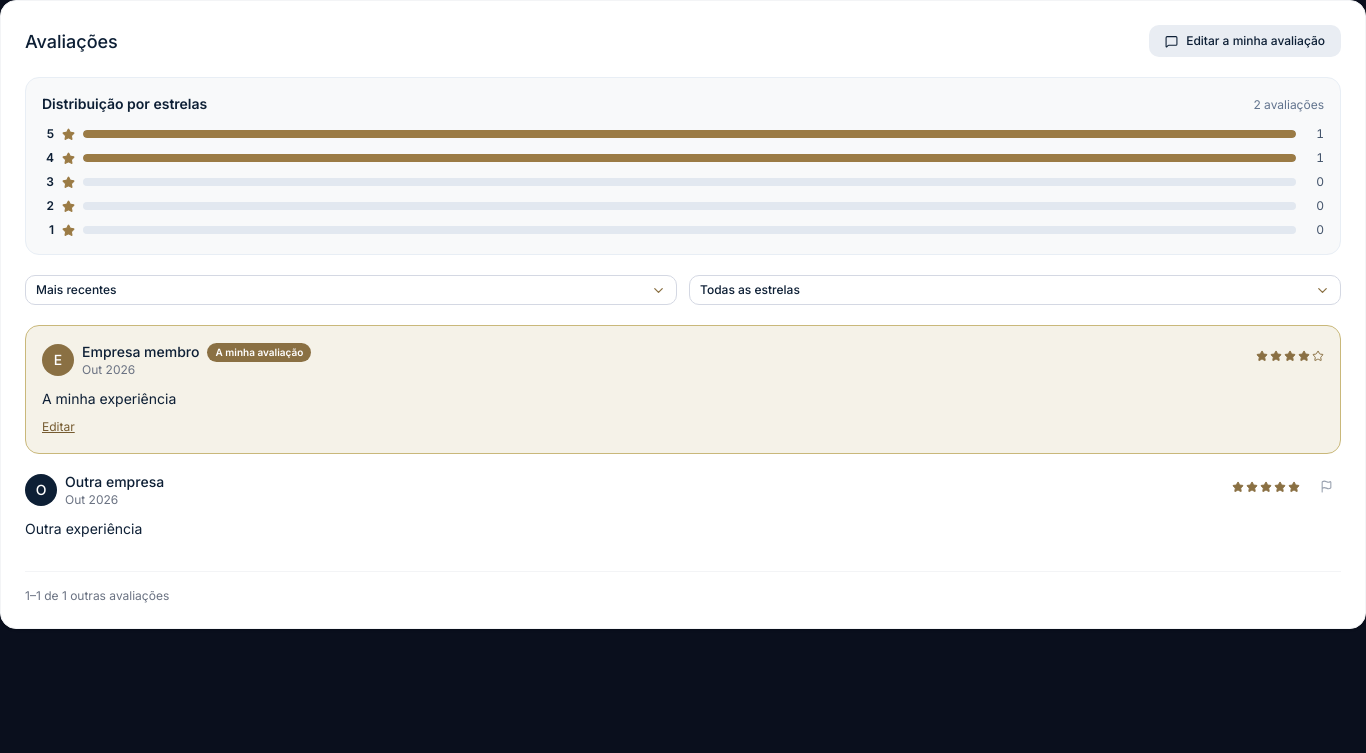
Formulário de avaliação do perfil público › edita com 200 e cancela sem alterar o conteúdo guardado
Click the button "Editar" at (58, 427), box [42,419,75,435]
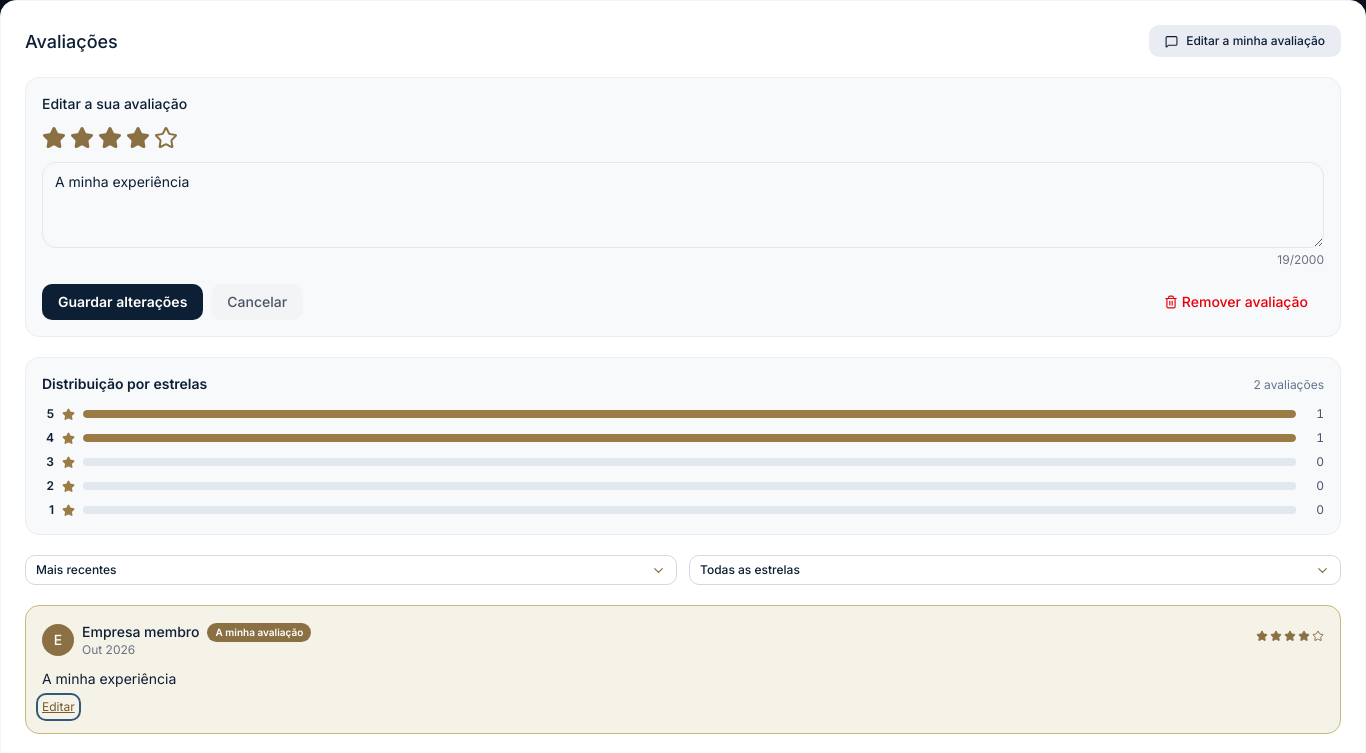
Now the text box holds "A minha experiência"
Replace the text in the text box with "Rascunho" at (683, 205), box [42,162,1324,248]
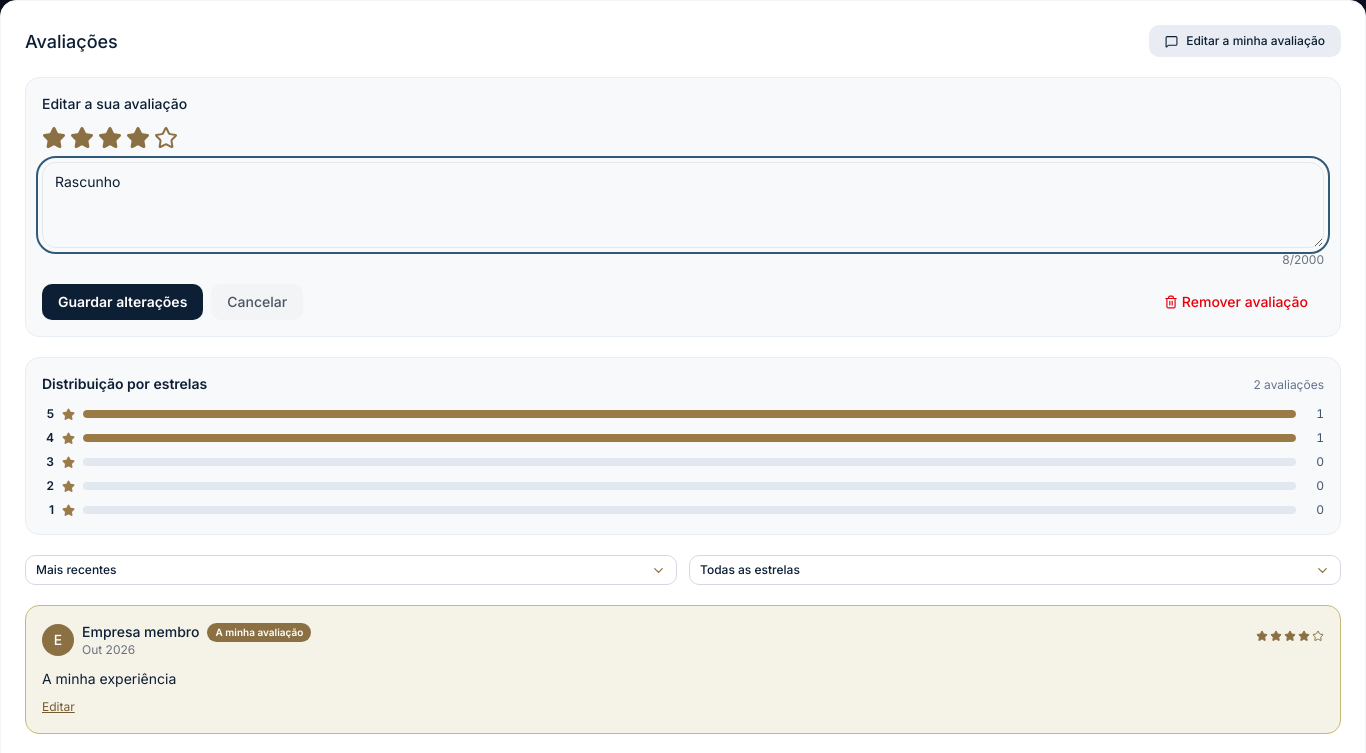
Click the button "Cancelar" at (257, 302), box [211,284,303,320]
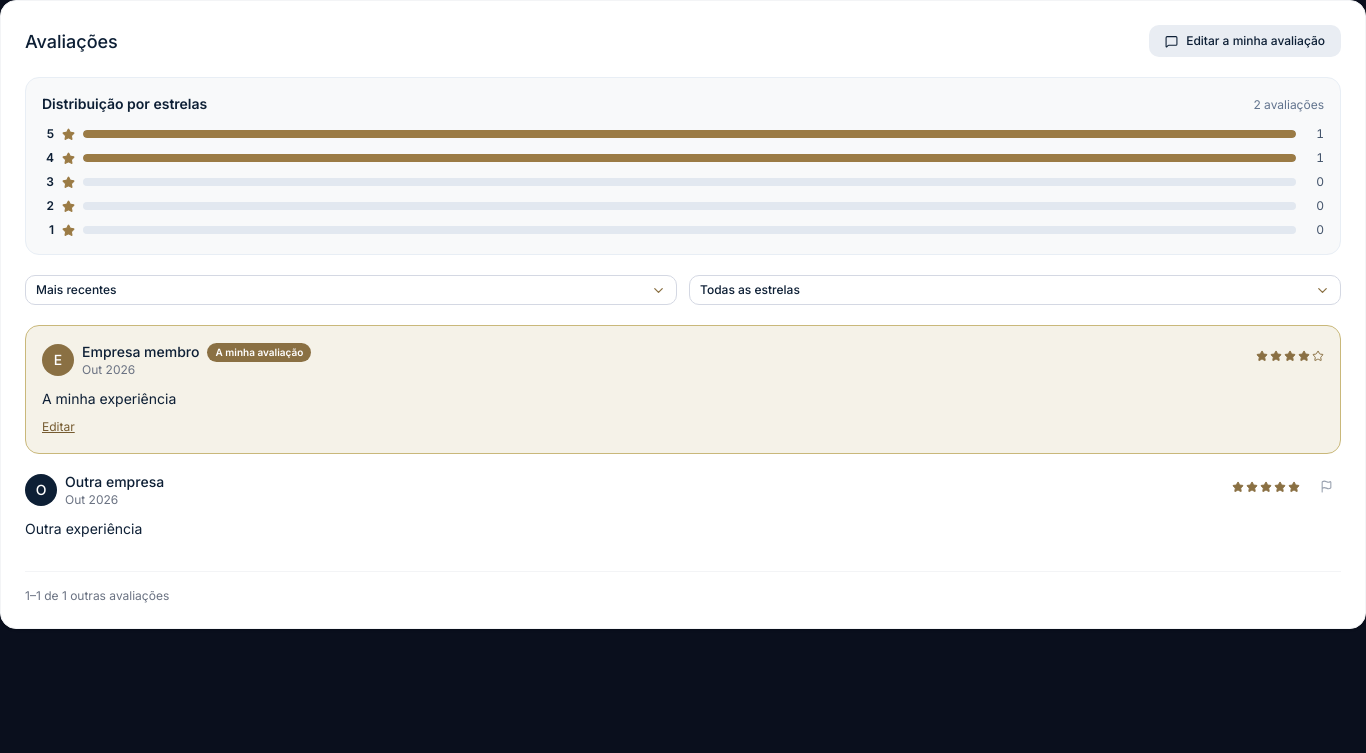
Expected: the text "A minha experiência" is shown, [42,390,176,407]
Click the button "Editar" at (58, 427), box [42,419,75,435]
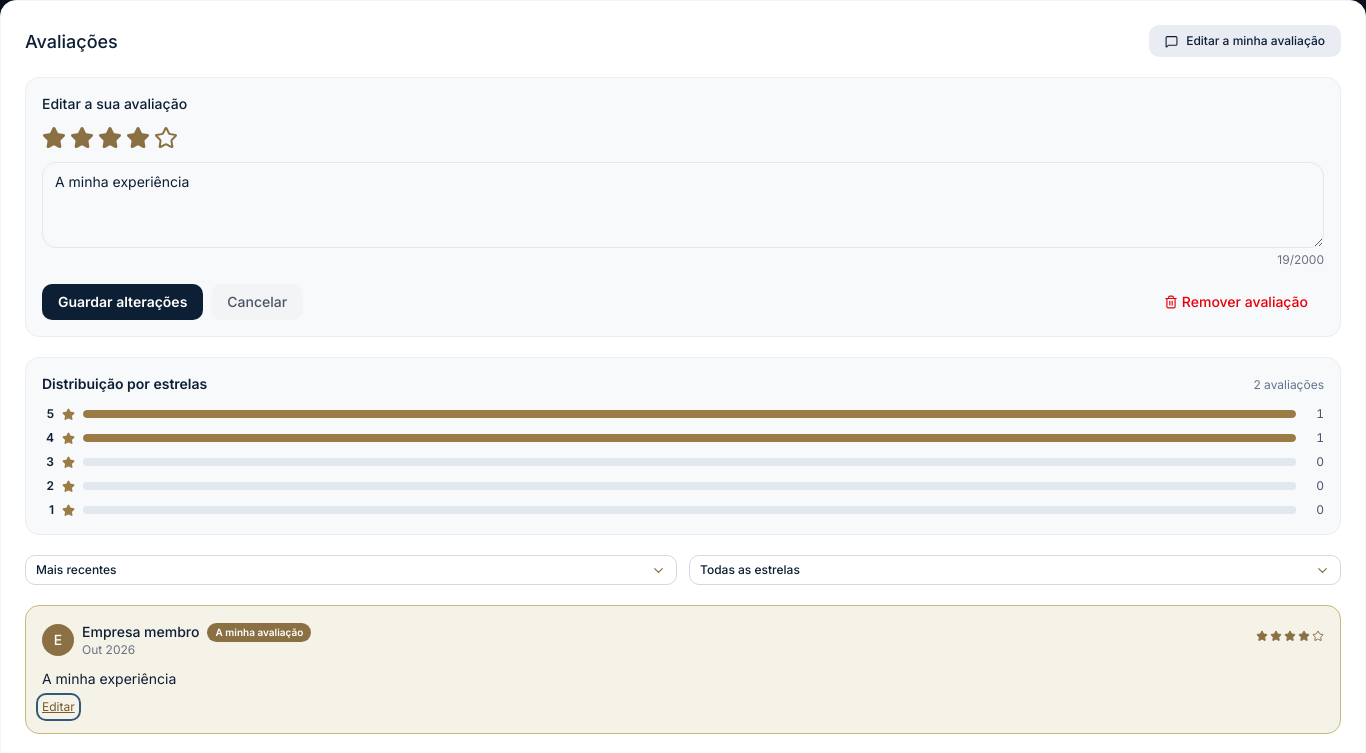
Now the text box holds "A minha experiência"
Replace the text in the text box with "Experiência atualizada" at (683, 205), box [42,162,1324,248]
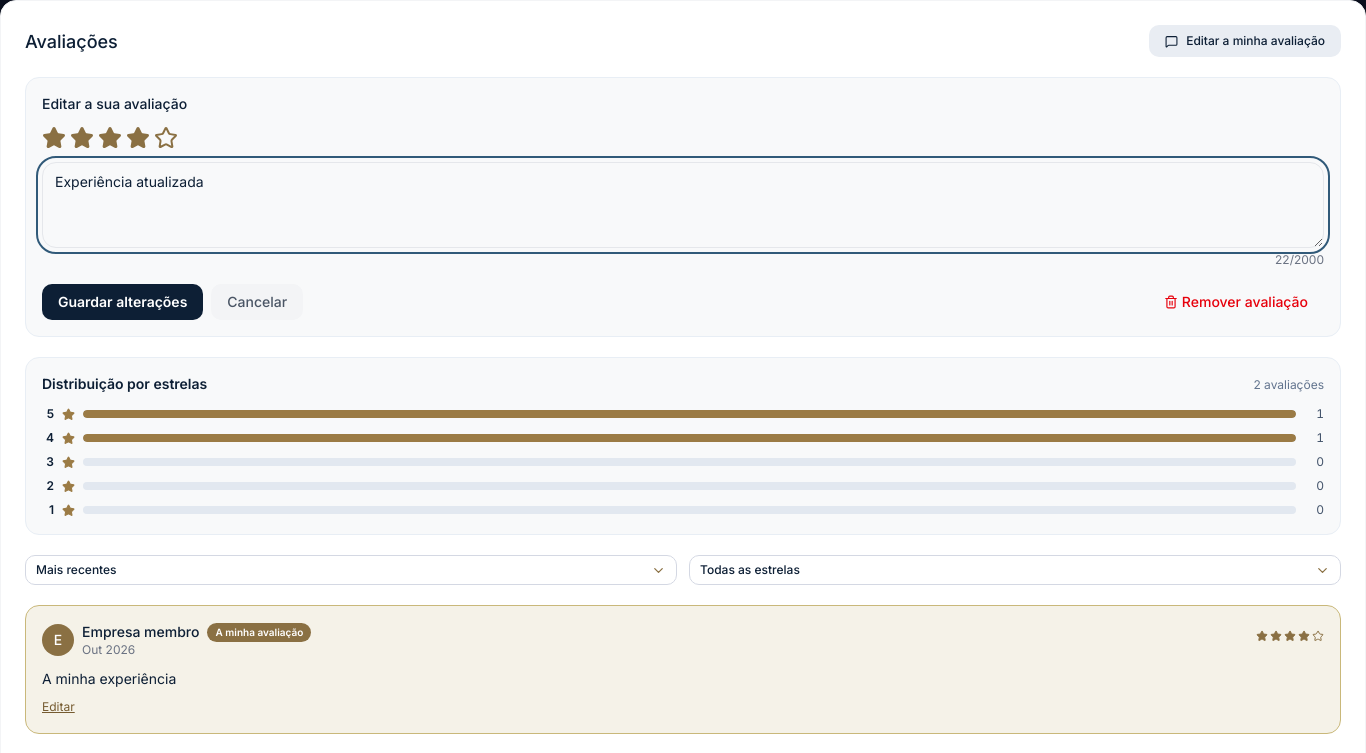
Click the button "Guardar alterações" at (123, 302), box [42,284,203,320]
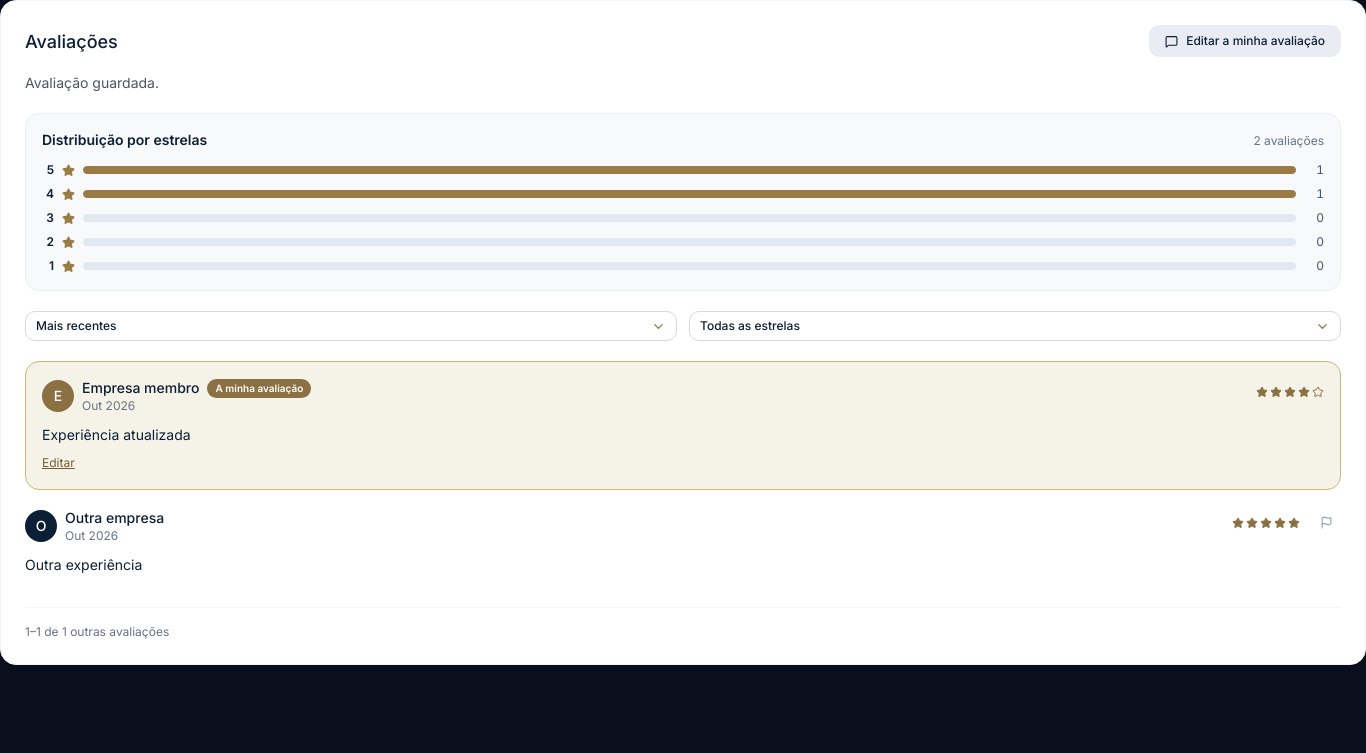
Expected: the text "A minha avaliação" is shown once, [208,378,311,398]
Now the text "Experiência atualizada" is shown, box [42,426,191,443]
